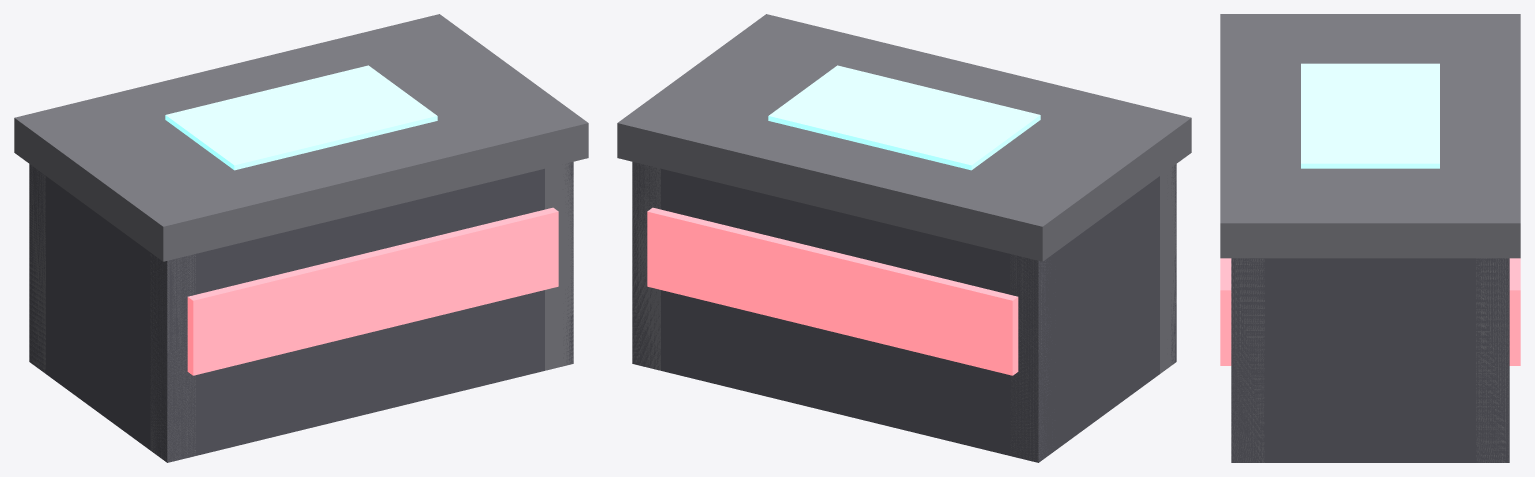
File: obs_block.glb
3 views of the same model, side by side, from view 1: azimuth 30°, elevation 25°; view 2: azimuth 150°, elevation 25°; view 3: azimuth 270°, elevation 25° (orthographic).
Parts seen in each view (by area): view 1: obs_block; view 2: obs_block; view 3: obs_block.
Part boxes in pixels (x1=…): obs_block: x1=14, y1=14, x2=588, y2=462; obs_block: x1=617, y1=14, x2=1191, y2=462; obs_block: x1=1220, y1=14, x2=1520, y2=462.
Size of the model in its own units: 1.78 by 0.99 by 1.08.
